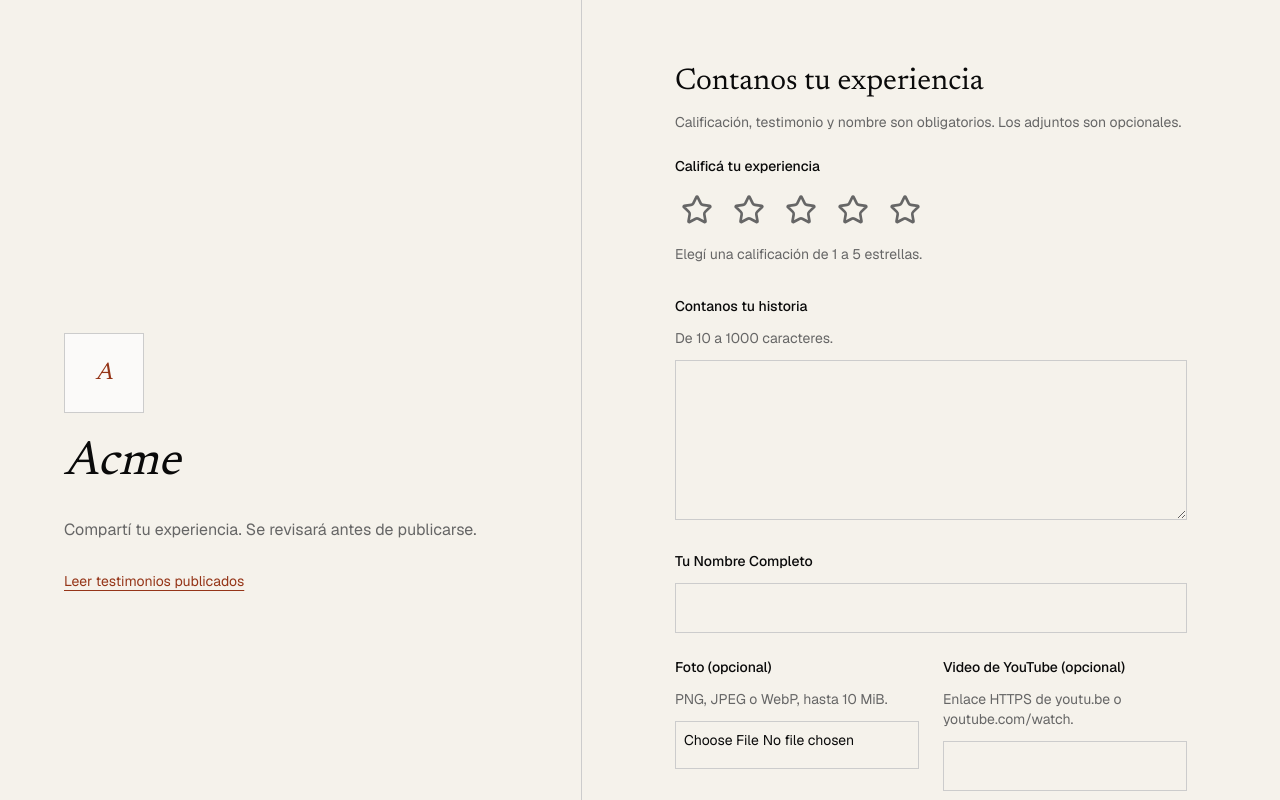
Test case: PublicCapturePage › confirms saved text and names both failed media without suggesting resubmission
Expected: the heading "Acme" is shown, [64,438,180,486]
Type "Excelente atención del equipo" into the text box labelled "Contanos tu historia" at coordinates (931, 440), box [675,360,1187,520]
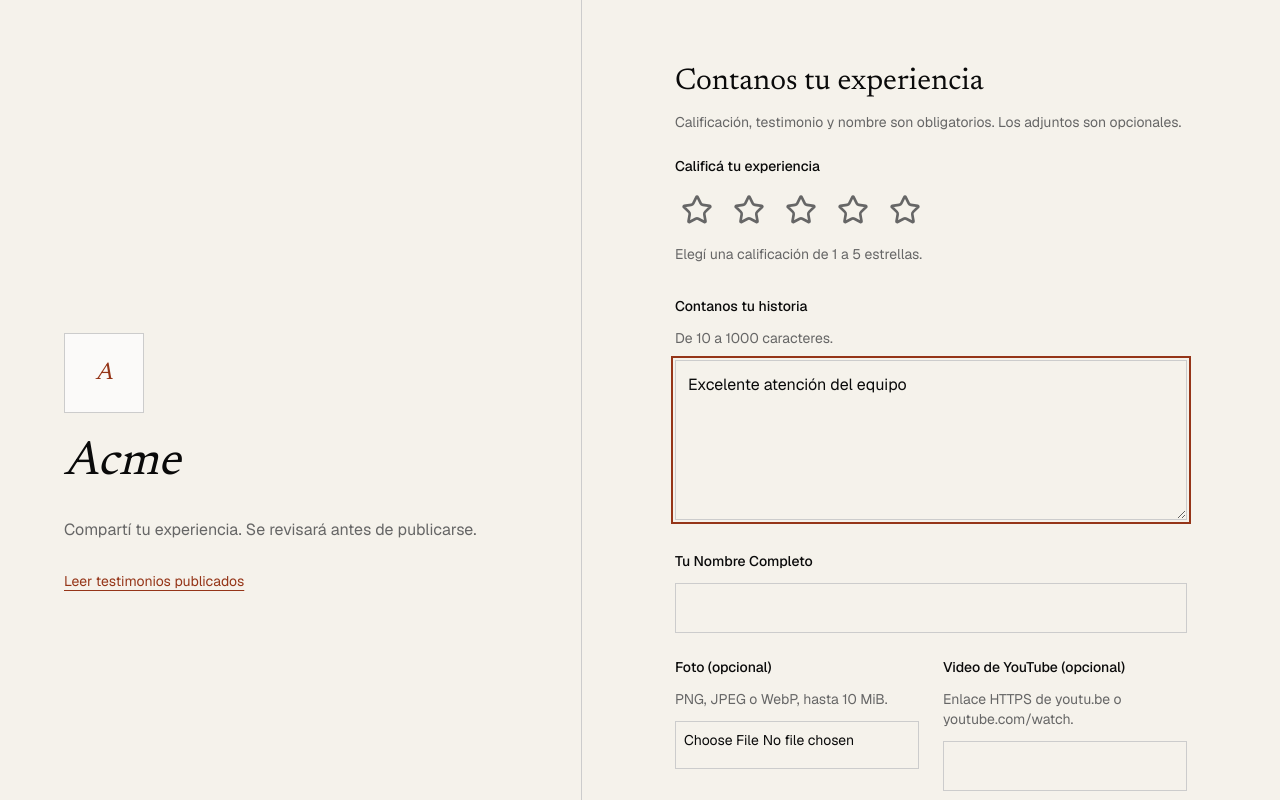
Type "Ana" into the field labelled "Tu Nombre Completo" at coordinates (931, 608), box [675,583,1187,633]
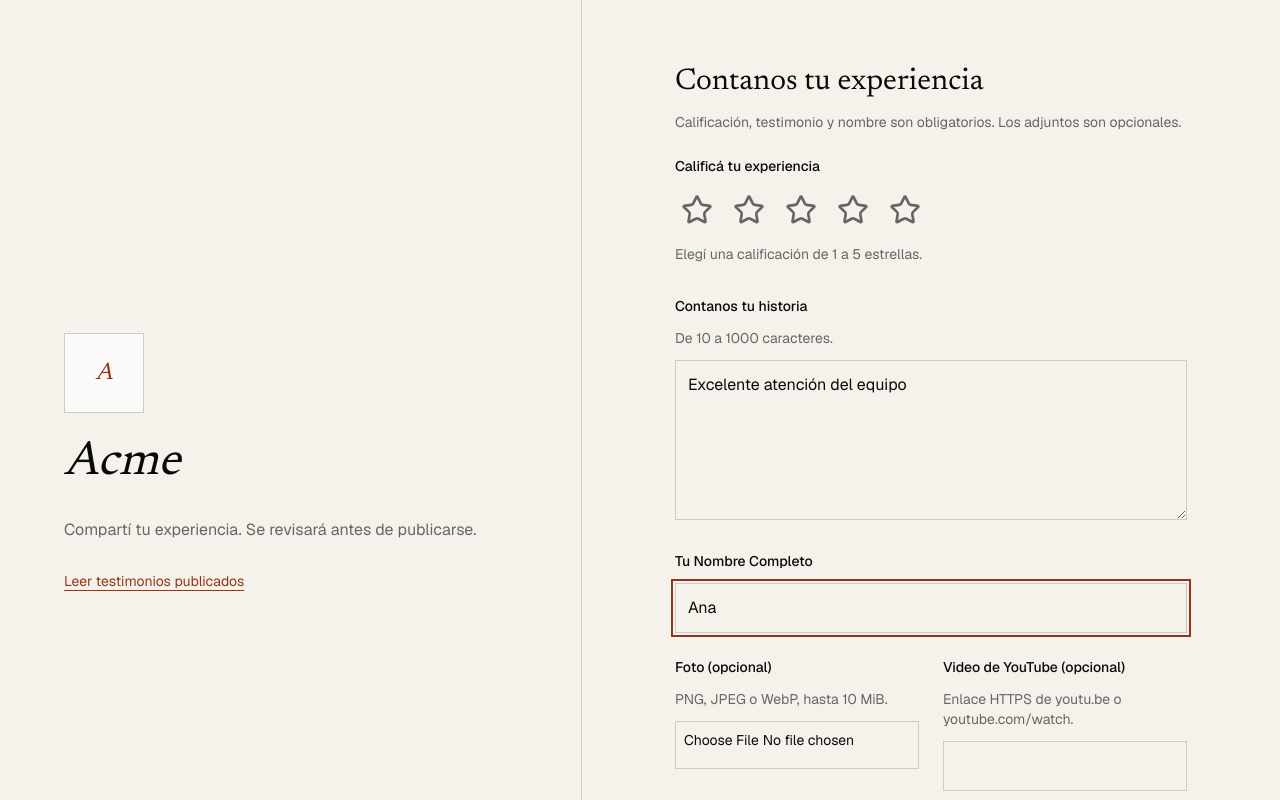
Click the radio button named "4 estrellas" at coordinates (853, 210), box [837,194,869,226]
(page scrolled)
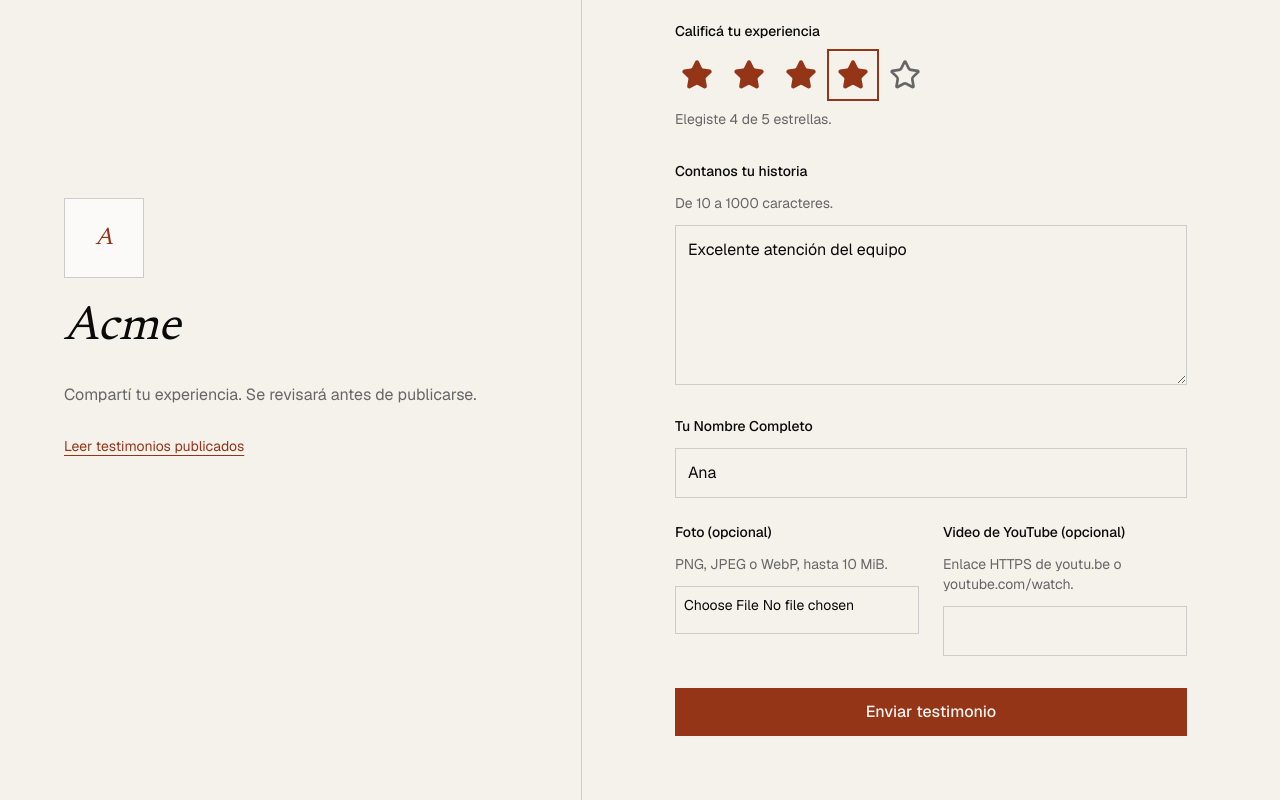
Click the button "Enviar testimonio" at coordinates (931, 712), box [675,688,1187,736]
(page scrolled)
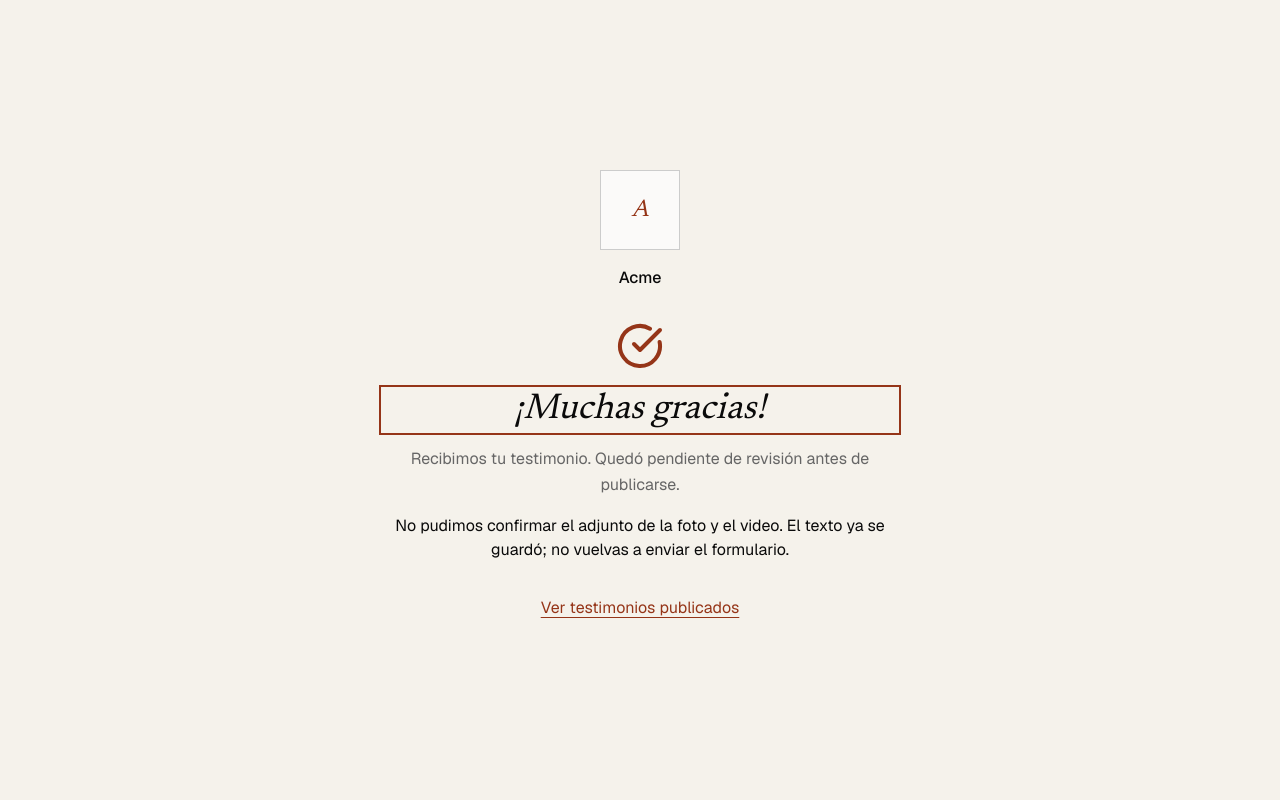
Expected: the heading "¡Muchas gracias!" is shown, [514,392,766,428]
Expected: the message shows "No pudimos confirmar el adjunto de la foto y el video", [384,514,896,562]
Expected: the message shows "no vuelvas a enviar el formulario", [491,515,885,560]
